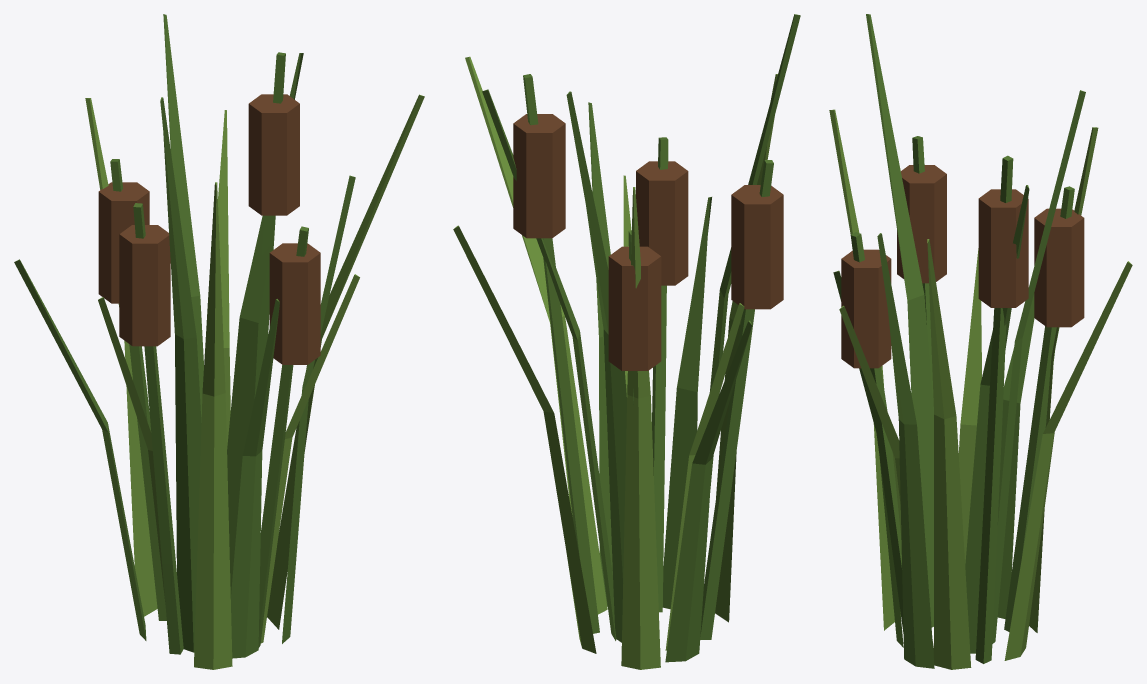
The model's file is reeds.glb.
3 renders of one model, left to right at view 1: azimuth 30°, elevation 25°; view 2: azimuth 150°, elevation 25°; view 3: azimuth 270°, elevation 25°, orthographic. The views are drawn at different scales.
Visible parts, largest first — view 1: Reeds_ReedDark, Reeds_Reed, Reeds_Cattail; view 2: Reeds_ReedDark, Reeds_Reed, Reeds_Cattail; view 3: Reeds_ReedDark, Reeds_Reed, Reeds_Cattail.
Part boxes in pixels (x1,y1,x2,y2): Reeds_ReedDark: (14, 14, 355, 658); Reeds_Reed: (85, 94, 424, 669); Reeds_Cattail: (98, 94, 320, 364); Reeds_ReedDark: (482, 14, 800, 662); Reeds_Reed: (453, 56, 777, 669); Reeds_Cattail: (513, 114, 783, 370); Reeds_ReedDark: (833, 14, 1085, 668); Reeds_Reed: (829, 109, 1132, 669); Reeds_Cattail: (841, 165, 1084, 368).
Size of the model in its own units: 2.19 by 3.59 by 1.7.
